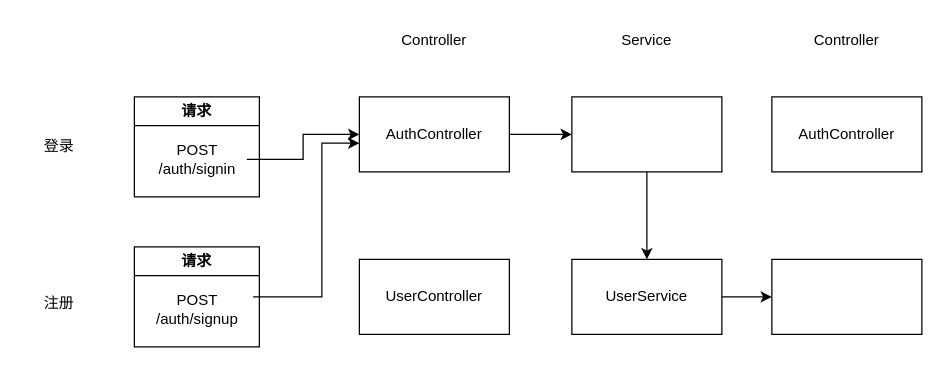
The diagram is 944 pixels wide and 369 high, and some of its shapes have lost their labels. The centre of each missing label's shape, as x and y in pixels:
AuthService: the point at 646,134
UserRepository: the point at 846,296
